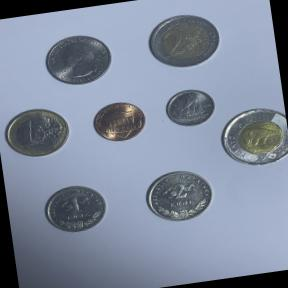coin: (139, 4, 227, 78), (137, 162, 220, 228), (37, 28, 118, 92), (215, 102, 288, 172), (0, 101, 76, 163), (87, 96, 151, 146), (161, 84, 220, 131)
